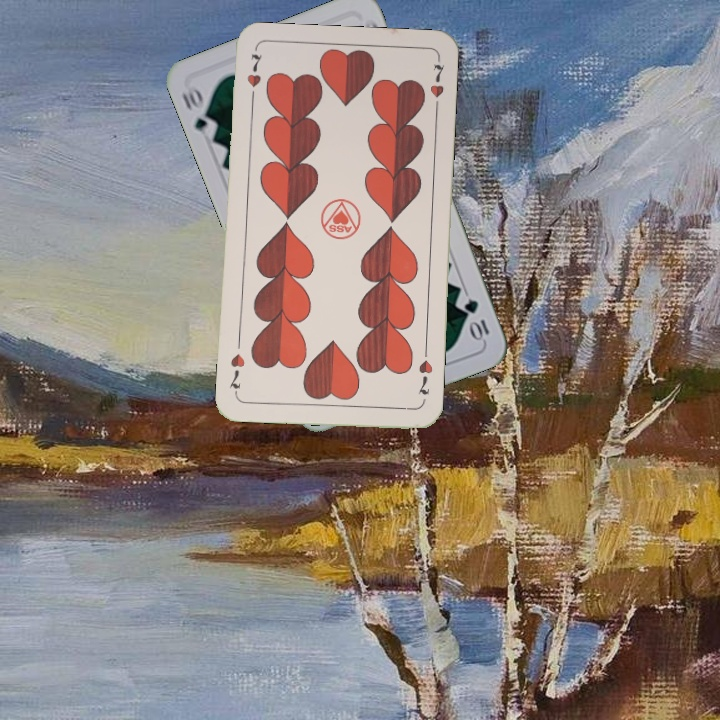G10: (178, 81, 220, 141), (460, 295, 492, 343)
H7: (243, 47, 264, 106), (413, 344, 435, 398)
